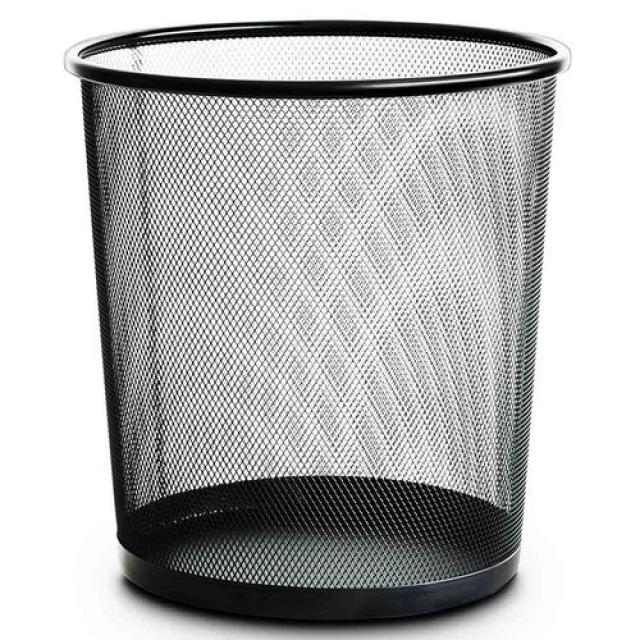dustbin: (56, 11, 581, 634)
